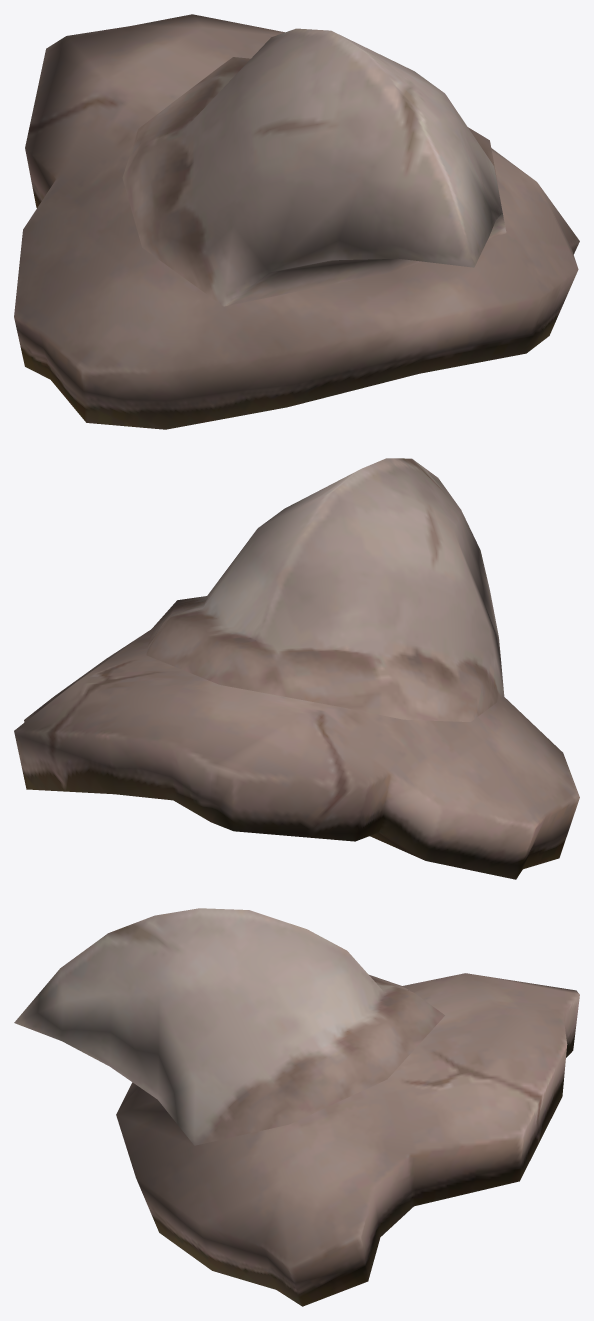
Rendered from Item_Enemy_47.glb.
3 views of the same model, one above another, from view 1: azimuth 30°, elevation 25°; view 2: azimuth 150°, elevation 25°; view 3: azimuth 270°, elevation 25° (orthographic). The views are drawn at different scales.
Visible parts, largest first — view 1: Item_Enemy_47; view 2: Item_Enemy_47; view 3: Item_Enemy_47.
Part boxes in pixels (x1=…): Item_Enemy_47: x1=14, y1=14, x2=579, y2=429; Item_Enemy_47: x1=14, y1=458, x2=579, y2=879; Item_Enemy_47: x1=14, y1=908, x2=579, y2=1306.
Bounding box in the file's own units: 0.9336 × 0.584 × 1.02.
1 material, 1 textured.
